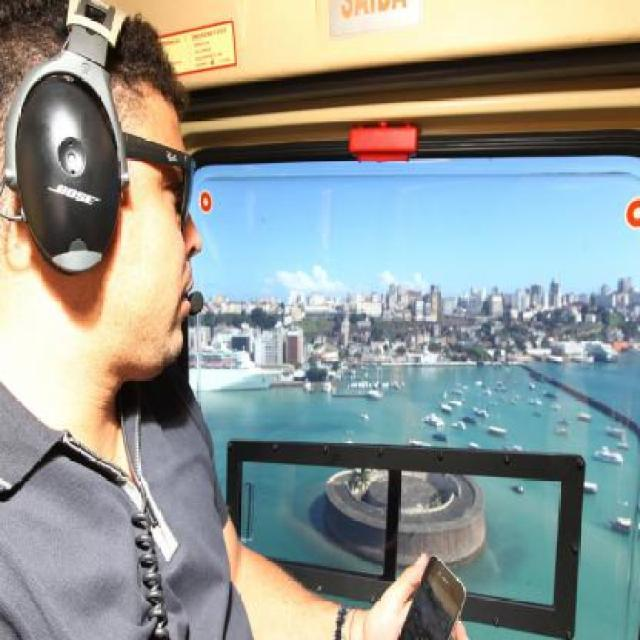earphone: (10, 0, 160, 291)
smart phone: (386, 543, 478, 640)
